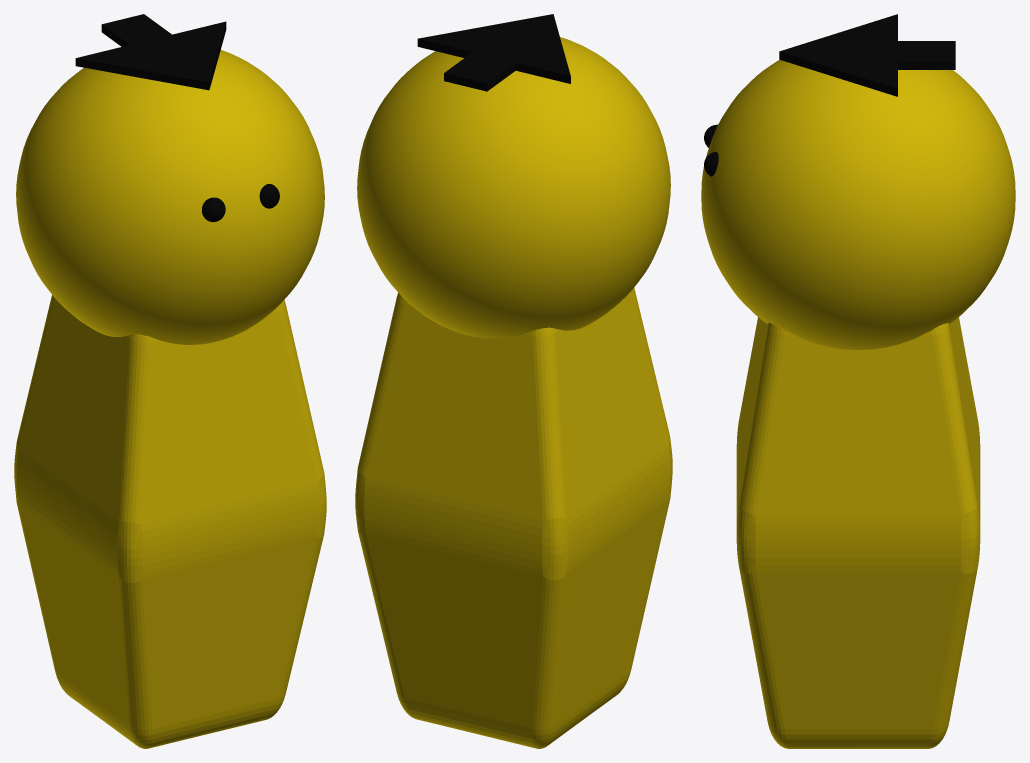
3 views of the same model, side by side, from view 1: azimuth 30°, elevation 25°; view 2: azimuth 150°, elevation 25°; view 3: azimuth 270°, elevation 25° (orthographic).
Parts seen in each view (by area): view 1: Cube.006_Cube.012_Material.003, Cube.006_Cube.012_SVGMat; view 2: Cube.006_Cube.012_Material.003, Cube.006_Cube.012_SVGMat; view 3: Cube.006_Cube.012_Material.003, Cube.006_Cube.012_SVGMat.
Boxes of the visible parts, left/top/right/bottom form: Cube.006_Cube.012_Material.003: left=14, top=50, right=326, bottom=748; Cube.006_Cube.012_SVGMat: left=75, top=14, right=279, bottom=222; Cube.006_Cube.012_Material.003: left=355, top=37, right=672, bottom=748; Cube.006_Cube.012_SVGMat: left=417, top=14, right=570, bottom=91; Cube.006_Cube.012_Material.003: left=701, top=59, right=1015, bottom=748; Cube.006_Cube.012_SVGMat: left=704, top=14, right=955, bottom=176.
Bounding box in the file's own units: 0.2062 × 0.482 × 0.2057.
